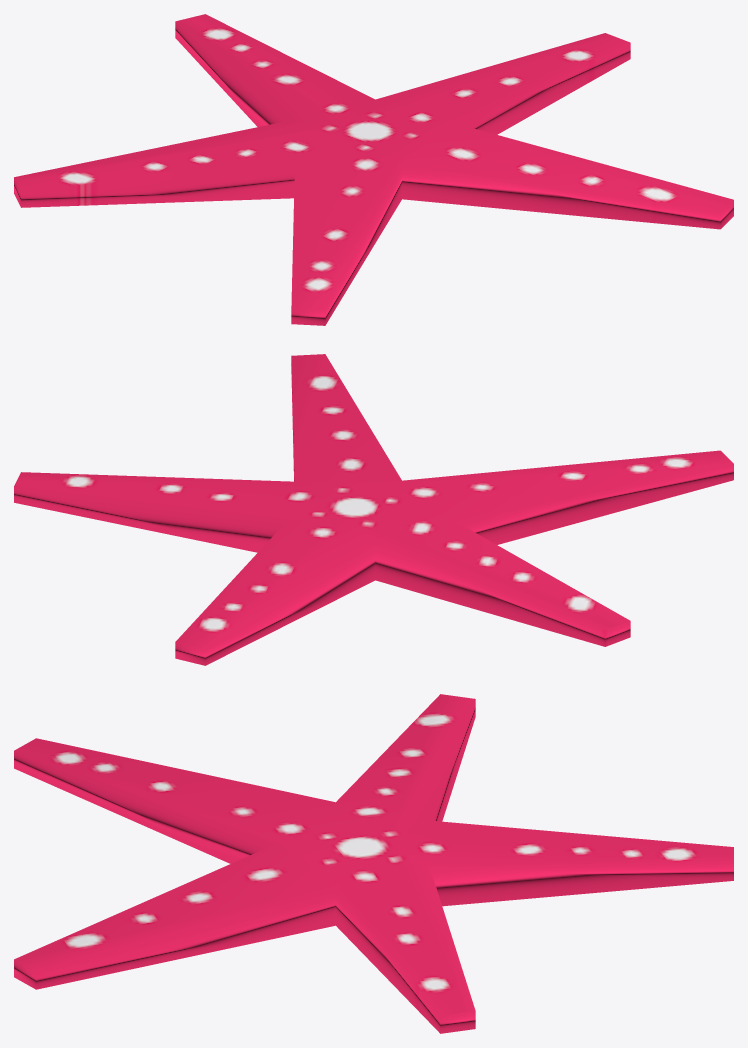
Rendered from starfish.fbx.
The picture shows the model from 3 angles, top to bottom: view 1: azimuth 30°, elevation 25°; view 2: azimuth 150°, elevation 25°; view 3: azimuth 270°, elevation 25°; orthographic projection. The views are drawn at different scales.
Visible parts, largest first — view 1: Cube; view 2: Cube; view 3: Cube.
Part boxes in pixels (x1=…): Cube: x1=14, y1=14, x2=733, y2=325; Cube: x1=14, y1=354, x2=733, y2=665; Cube: x1=14, y1=694, x2=733, y2=1033.
Bounding box in the file's own units: 189 × 11.22 × 179.
